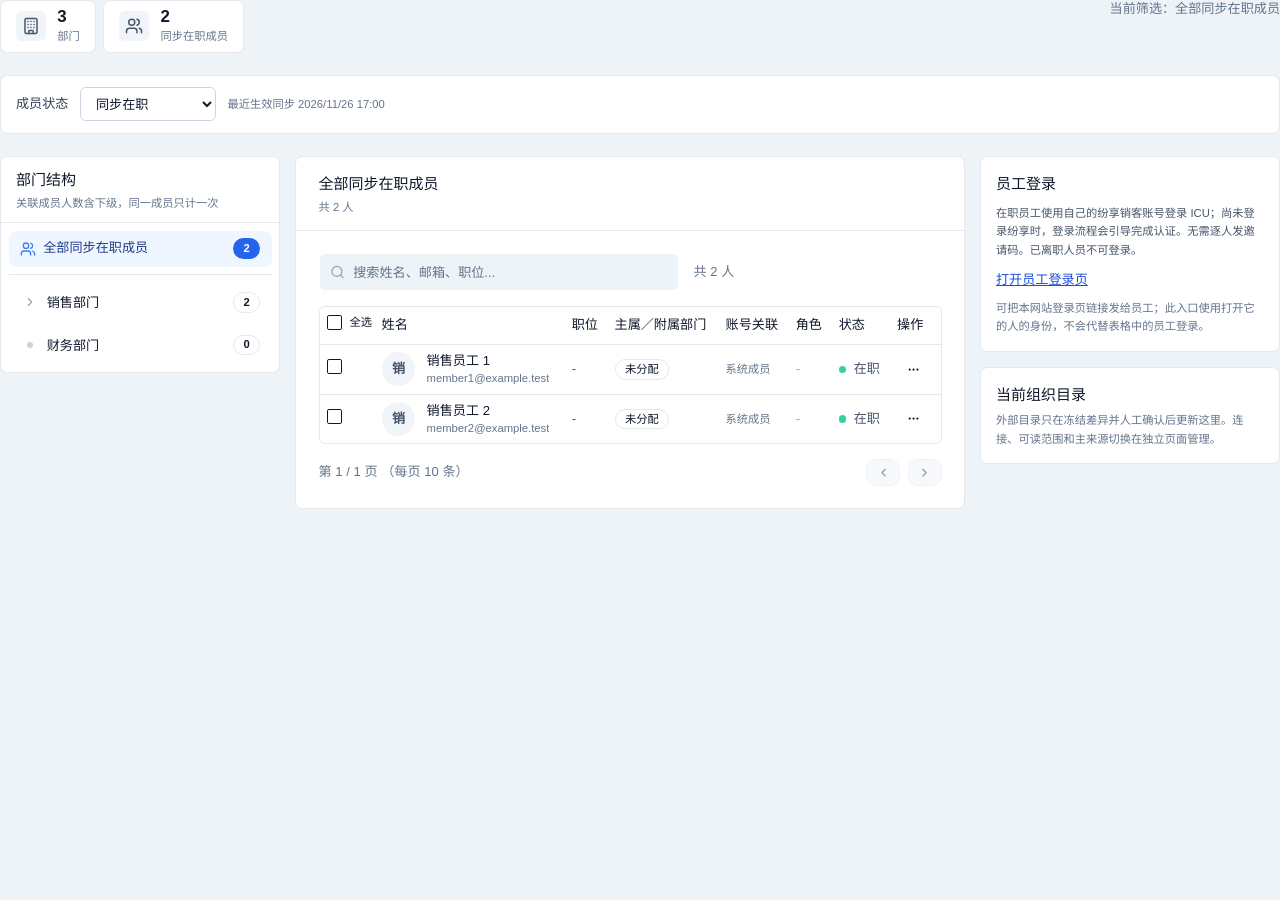
Test: sends only the selected role addition, reports partial results, and keeps the failed member selected
This screenshot has width=1280, height=900.
Click the button "销售部门 2". click: (73, 303)
box: x1=23 y1=292 x2=260 y2=313
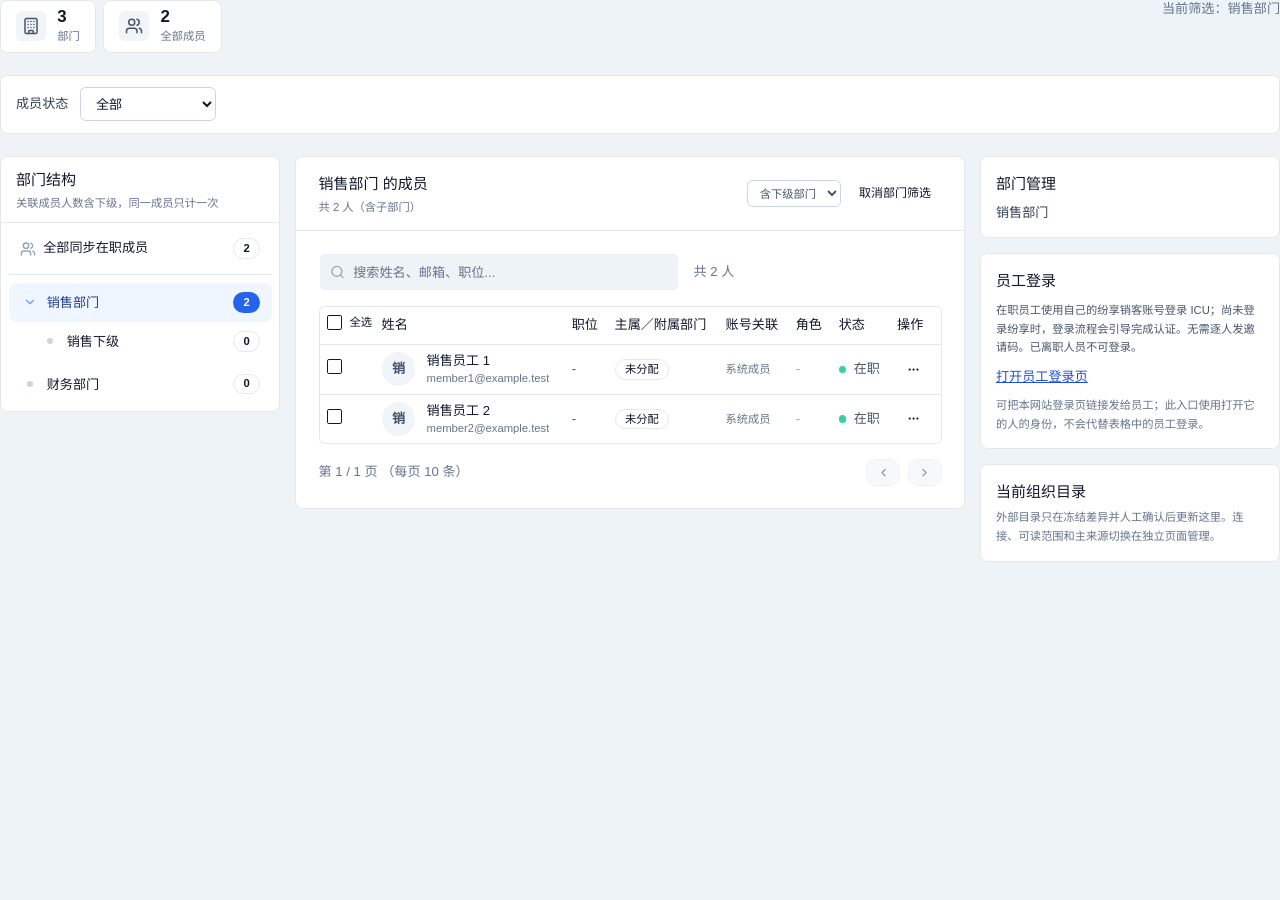
Click the checkbox named "全选当前名单". click: (334, 322)
box: x1=327 y1=315 x2=342 y2=330
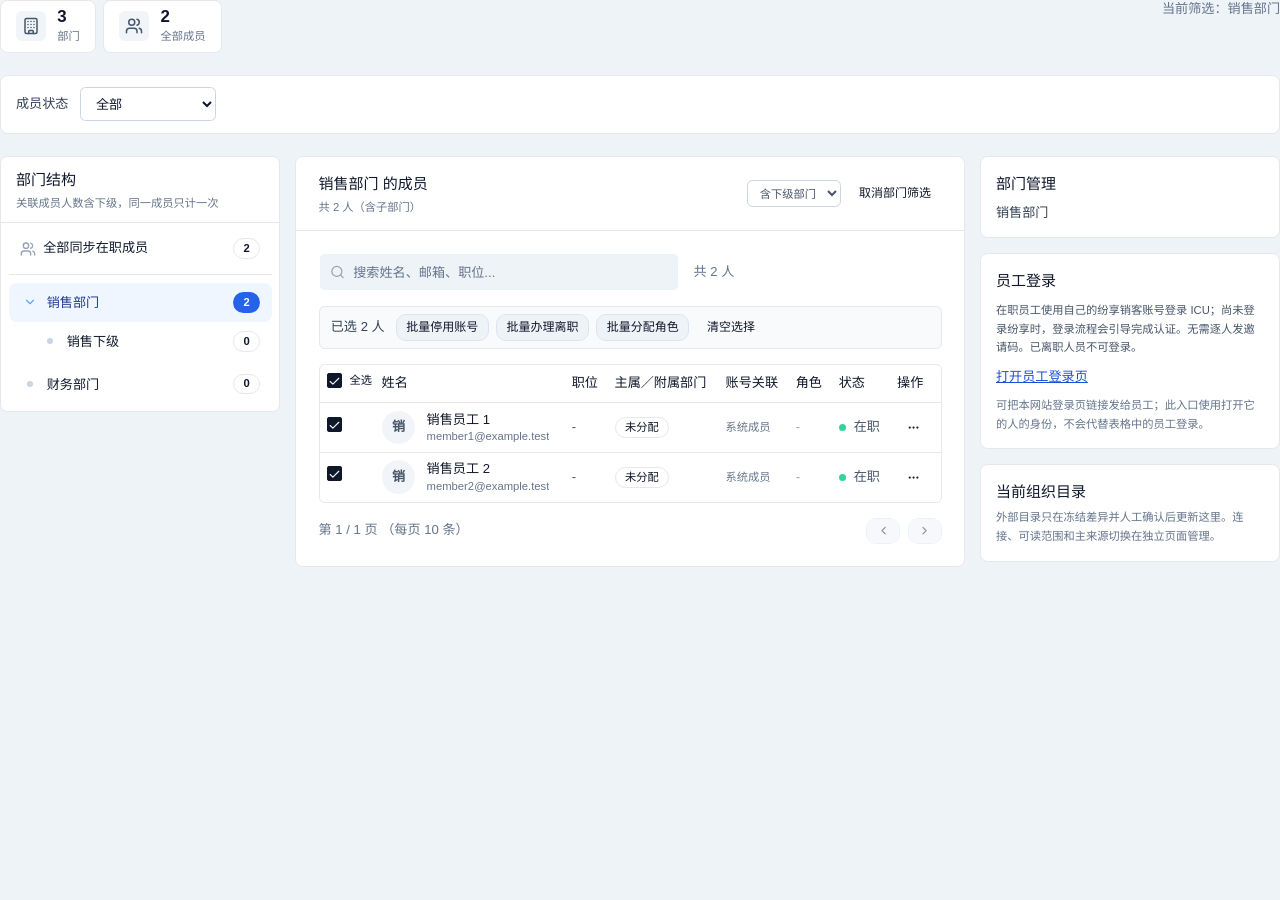
Click the button "批量分配角色". click: (643, 328)
box: x1=596 y1=314 x2=689 y2=341
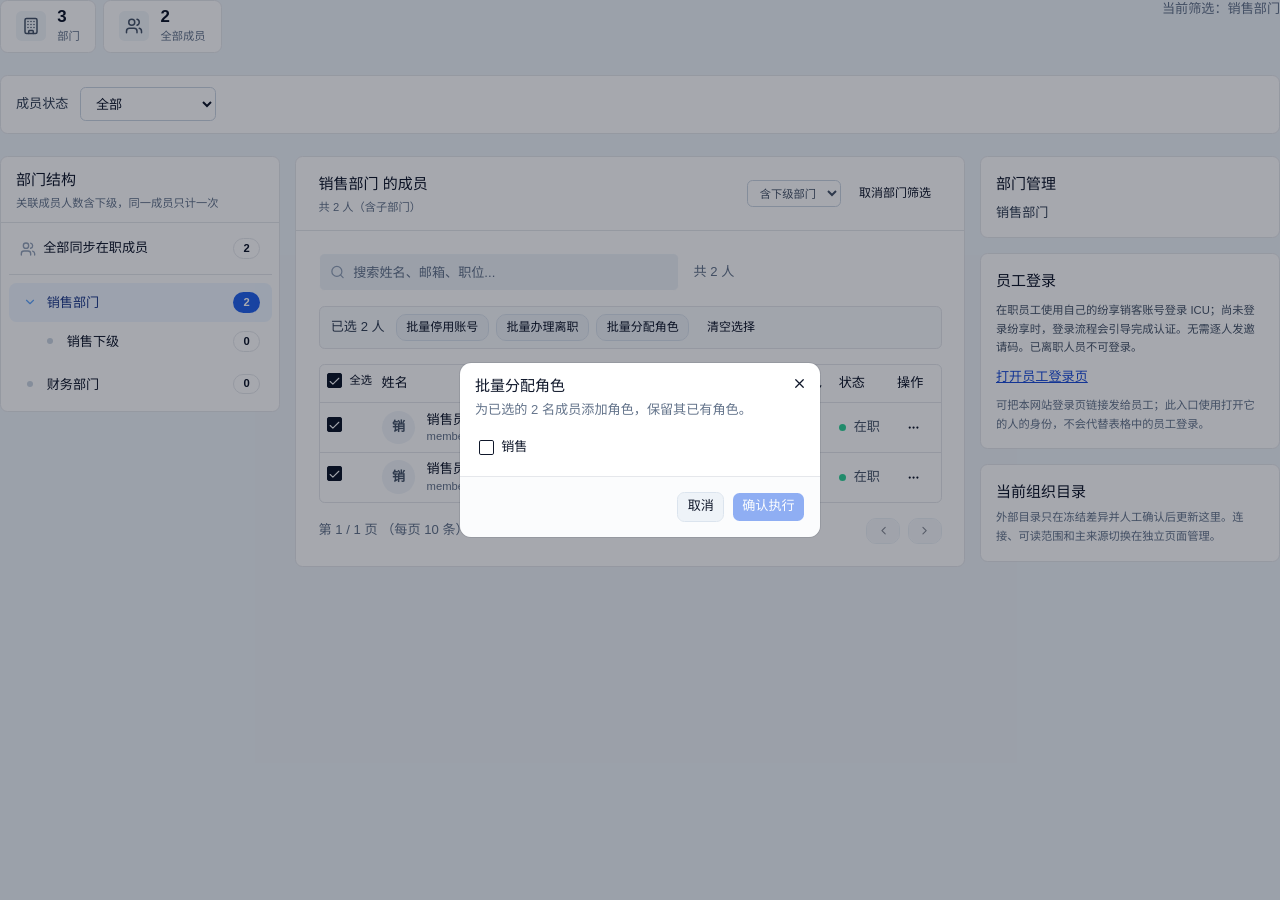
Result: the button "确认执行" is disabled at x1=732 y1=492 x2=805 y2=522
Click the checkbox named "销售". click: (486, 448)
box: x1=479 y1=440 x2=494 y2=455
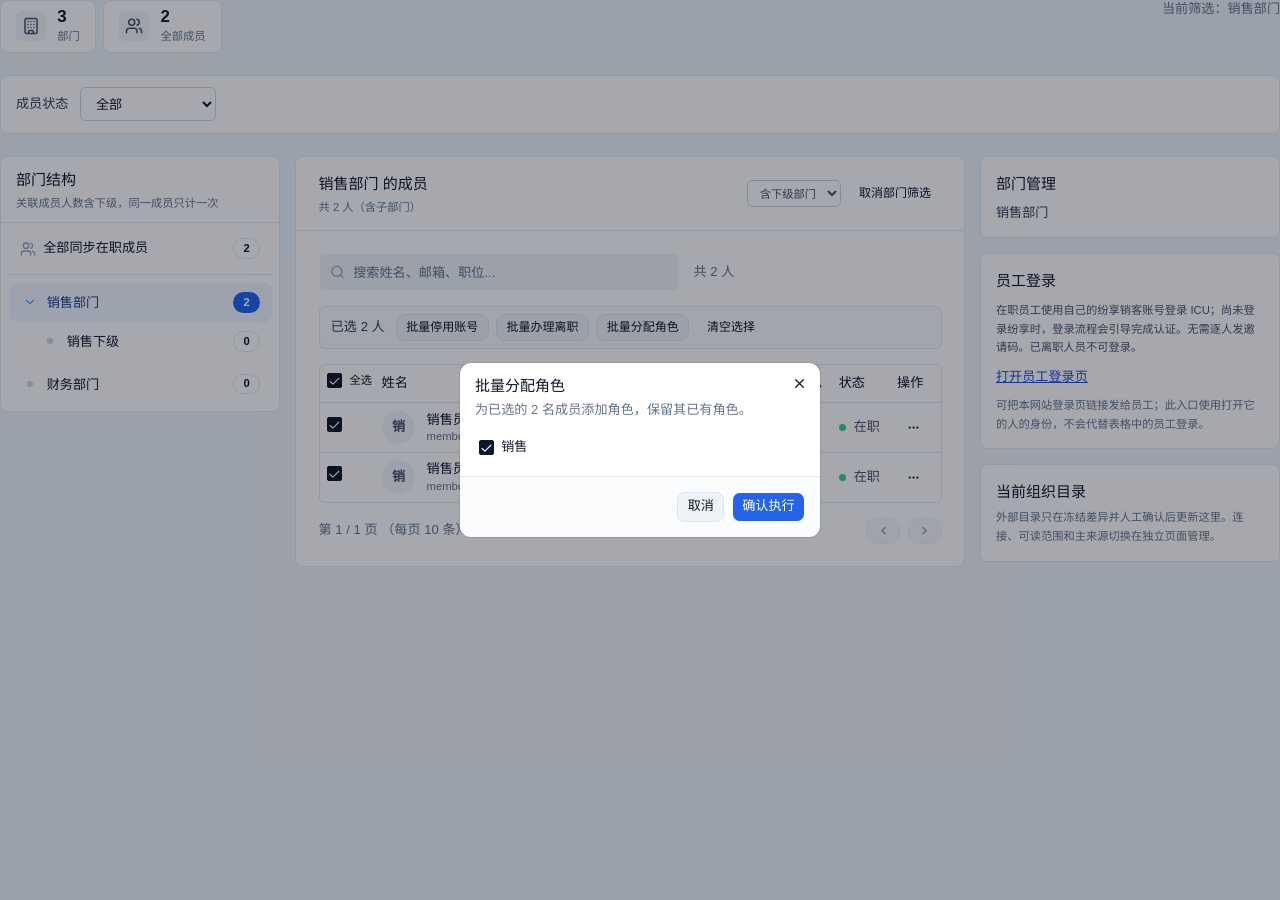
Click the button "确认执行". click: (768, 507)
box: x1=732 y1=492 x2=805 y2=522
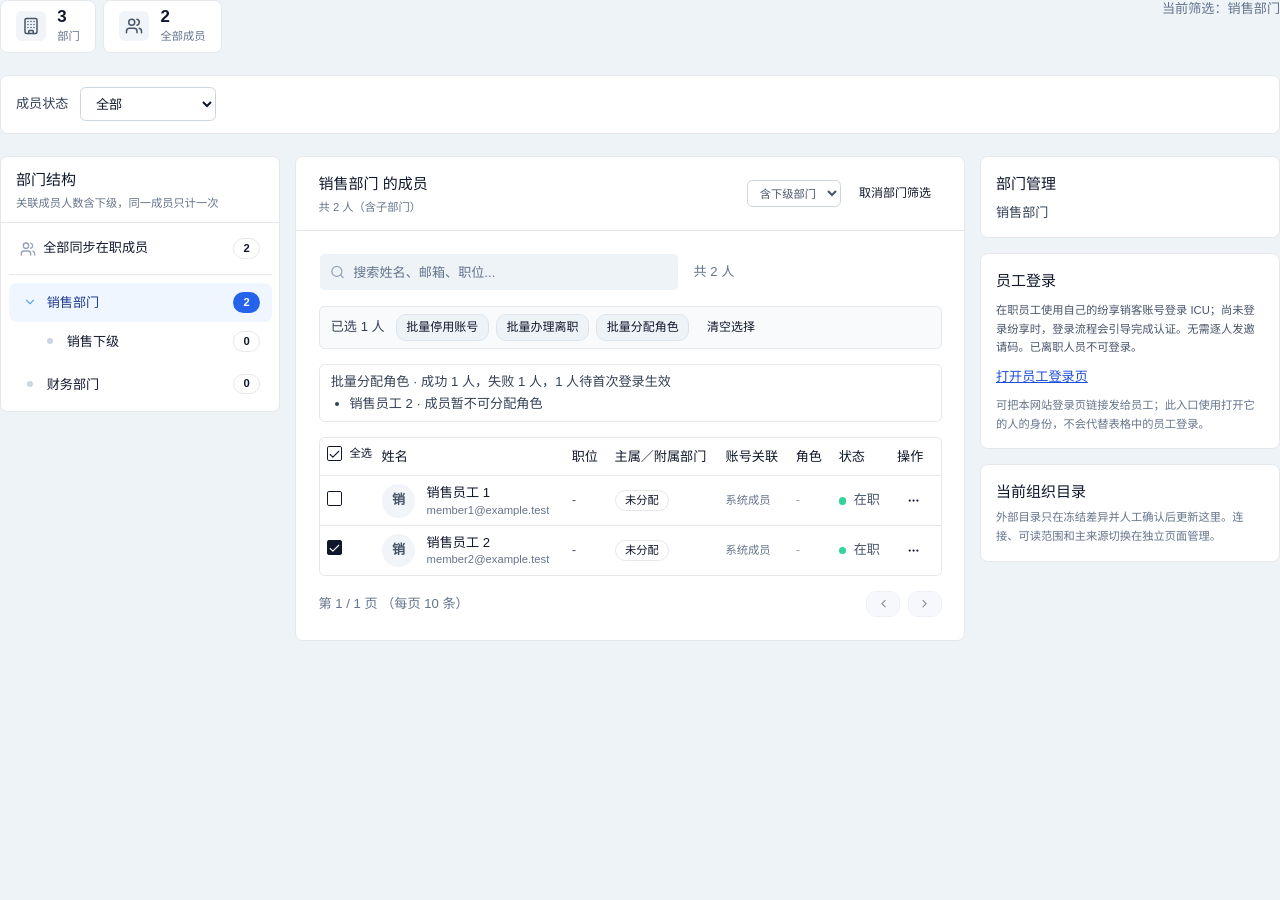
Result: the text "批量分配角色 · 成功 1 人，失败 1 人，1 人待首次登录生效" is shown at x1=331 y1=374 x2=671 y2=389
Result: the list item "销售员工 2 · 成员暂不可分配角色" is shown at x1=350 y1=396 x2=542 y2=411
Result: the checkbox named "选择销售员工 1" is not checked at x1=327 y1=491 x2=342 y2=506
